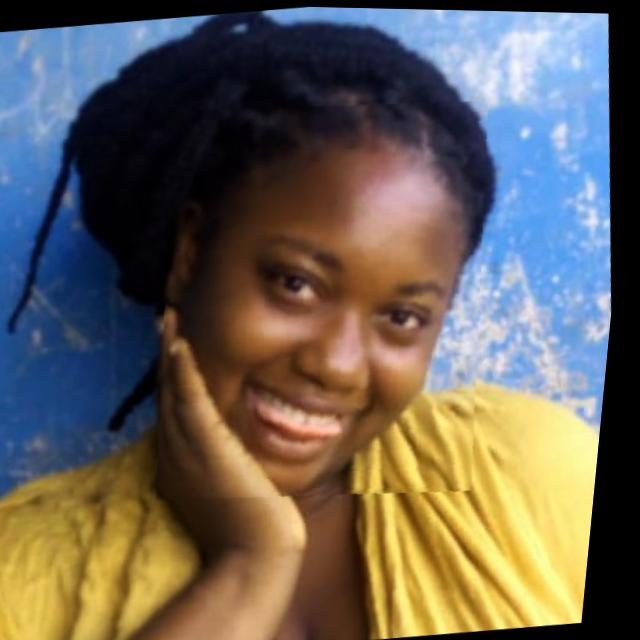happy: (131, 81, 526, 516)
